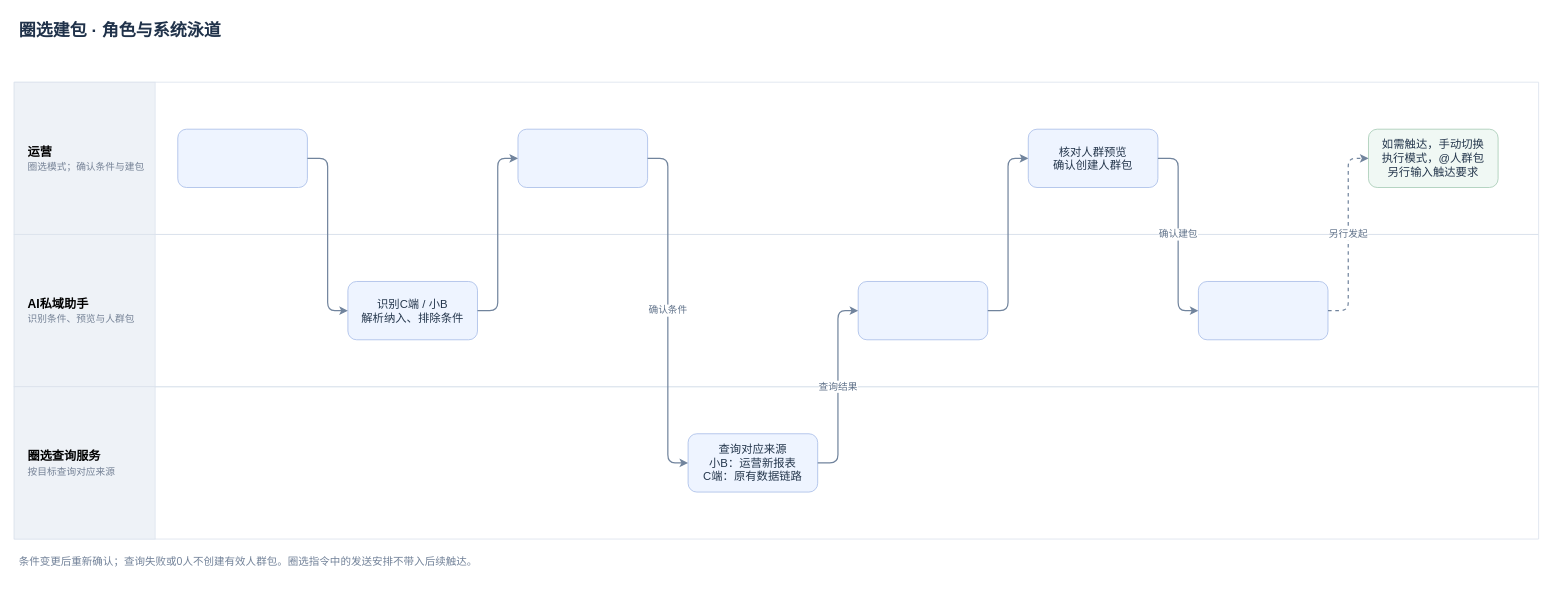
This 1553x614 diagram has some shape labels left out. The shapes that lost their labels are listed below. From the top down, each one's box as (x1, y1, x2, y2) in pixels, then its label:
(177, 128, 307, 188): 输入目标人群 和圈选条件
(517, 128, 648, 188): 确认解析条件 或描述变更条件
(857, 281, 988, 340): 返回人数、样本 名称及更新频率
(1198, 281, 1328, 340): 创建并返回人群包 本次圈选结束
